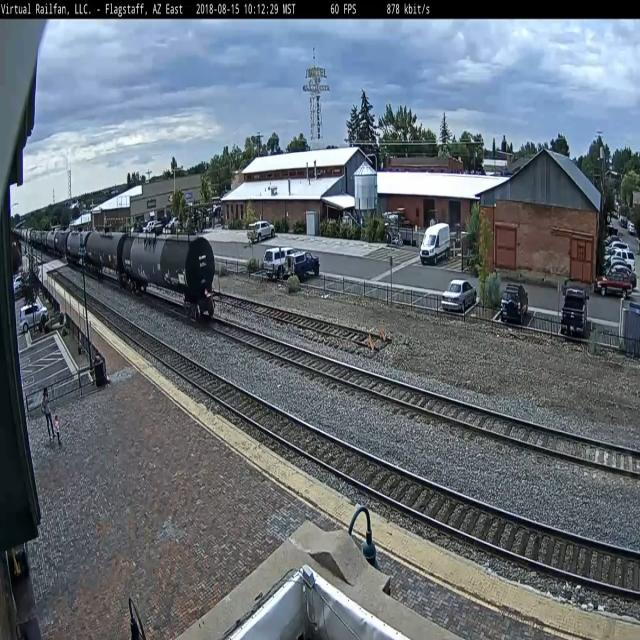tank: (118, 224, 220, 330)
